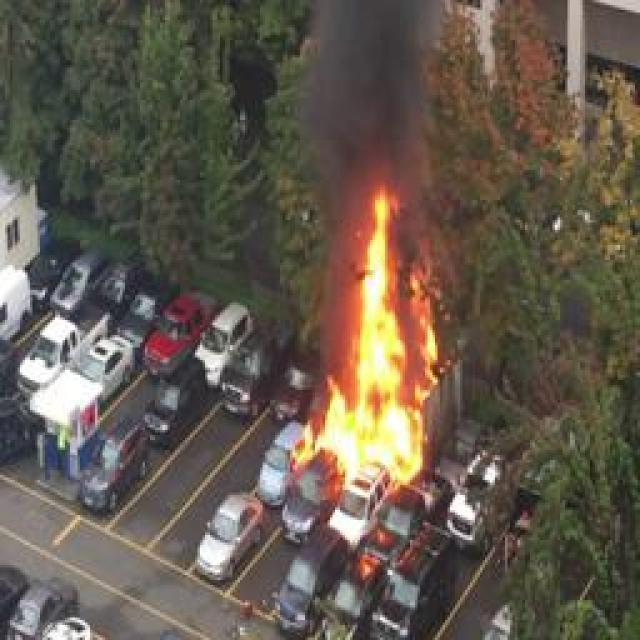Fire: (348, 194, 433, 471)
Smoke: (318, 13, 428, 187)
